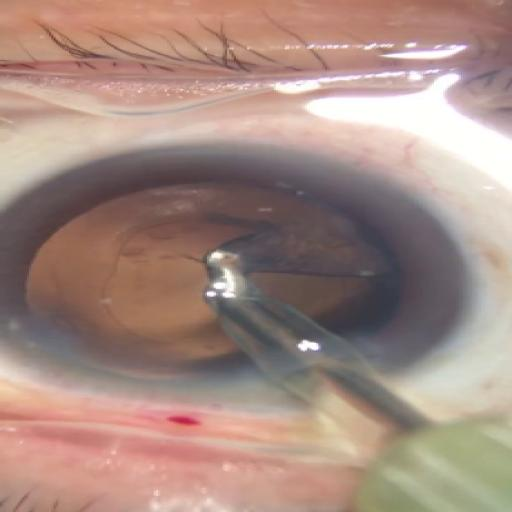catarata: (3, 142, 466, 407)
cornea: (26, 184, 398, 384)
